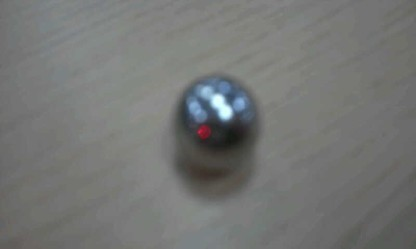ironball: (172, 72, 259, 178)
